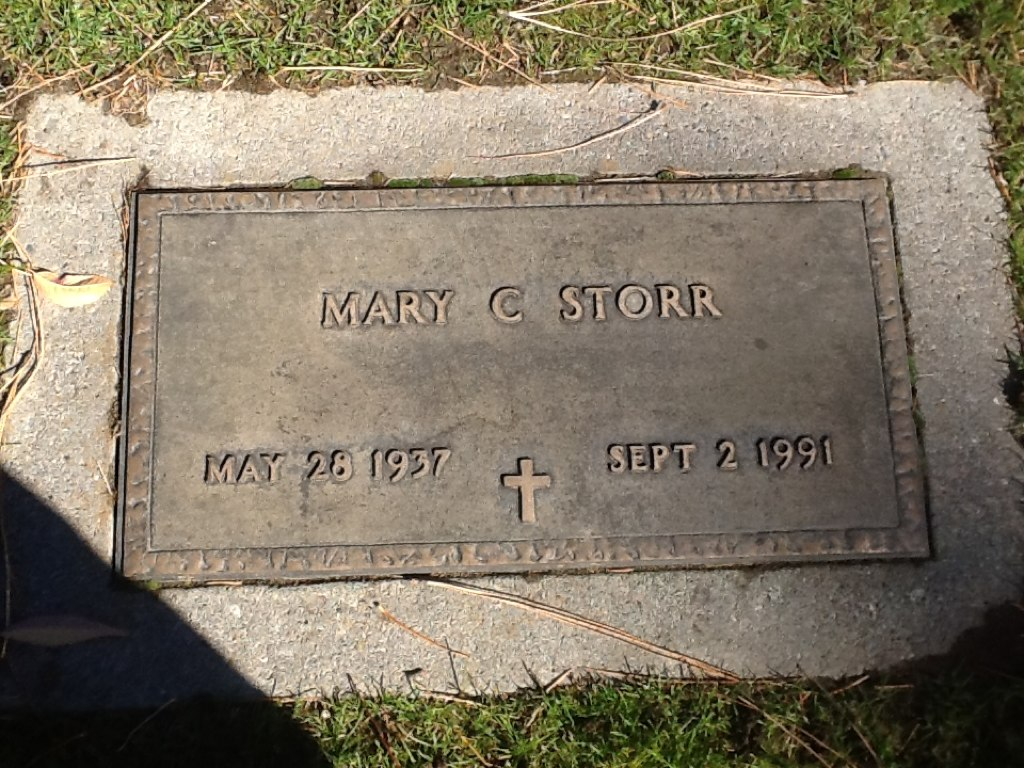flat: (0, 83, 1024, 716)
